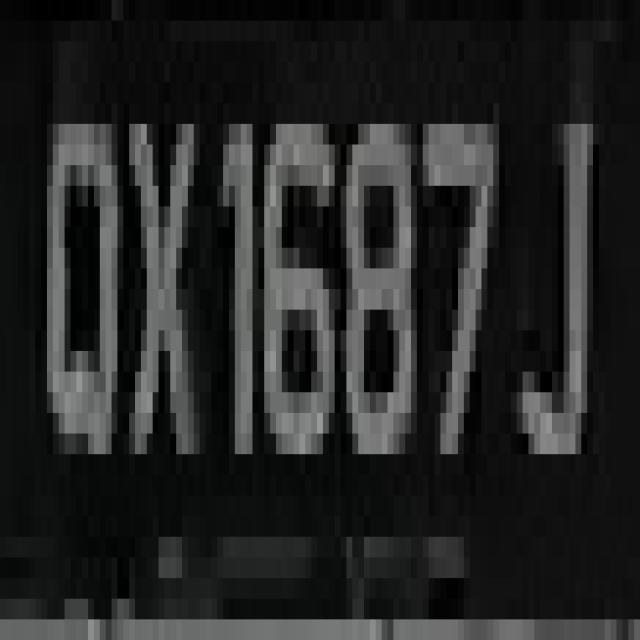1: (218, 41, 258, 537)
6: (258, 62, 340, 495)
7: (405, 41, 499, 558)
8: (334, 42, 422, 496)
J: (505, 41, 605, 454)
Q: (41, 62, 129, 454)
X: (117, 21, 205, 516)
